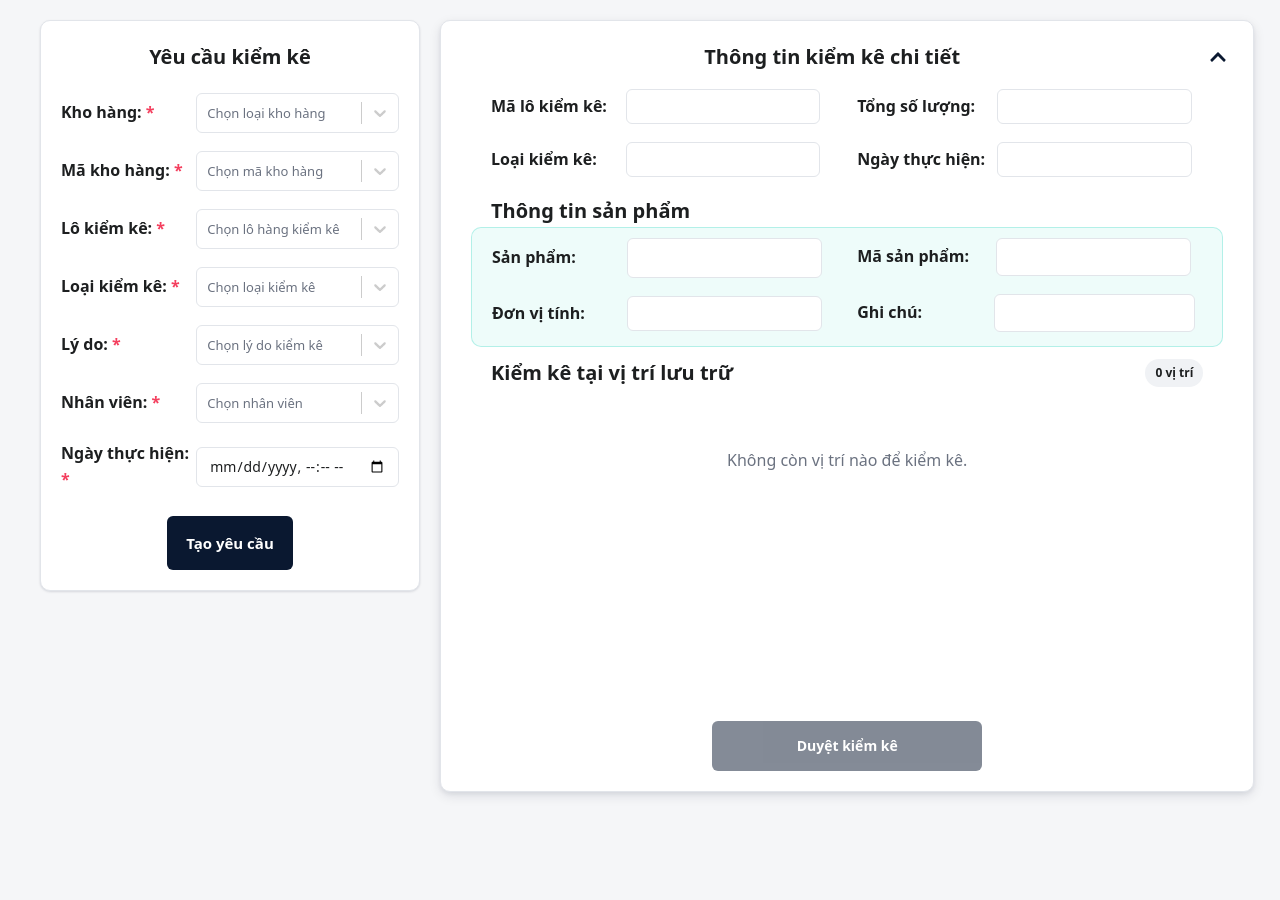
LotAdjustmentRequest › chọn lô kiểm kê -> nạp đúng thông tin sản phẩm và danh sách vị trí
Expected: the button "Tạo yêu cầu" is shown, x1=167 y1=516 x2=293 y2=570
What coordinates should you click on to do the following:
click the text "Chọn loại kho hàng"
I would click on:
 (266, 113)
Its box is x1=207 y1=104 x2=326 y2=122.
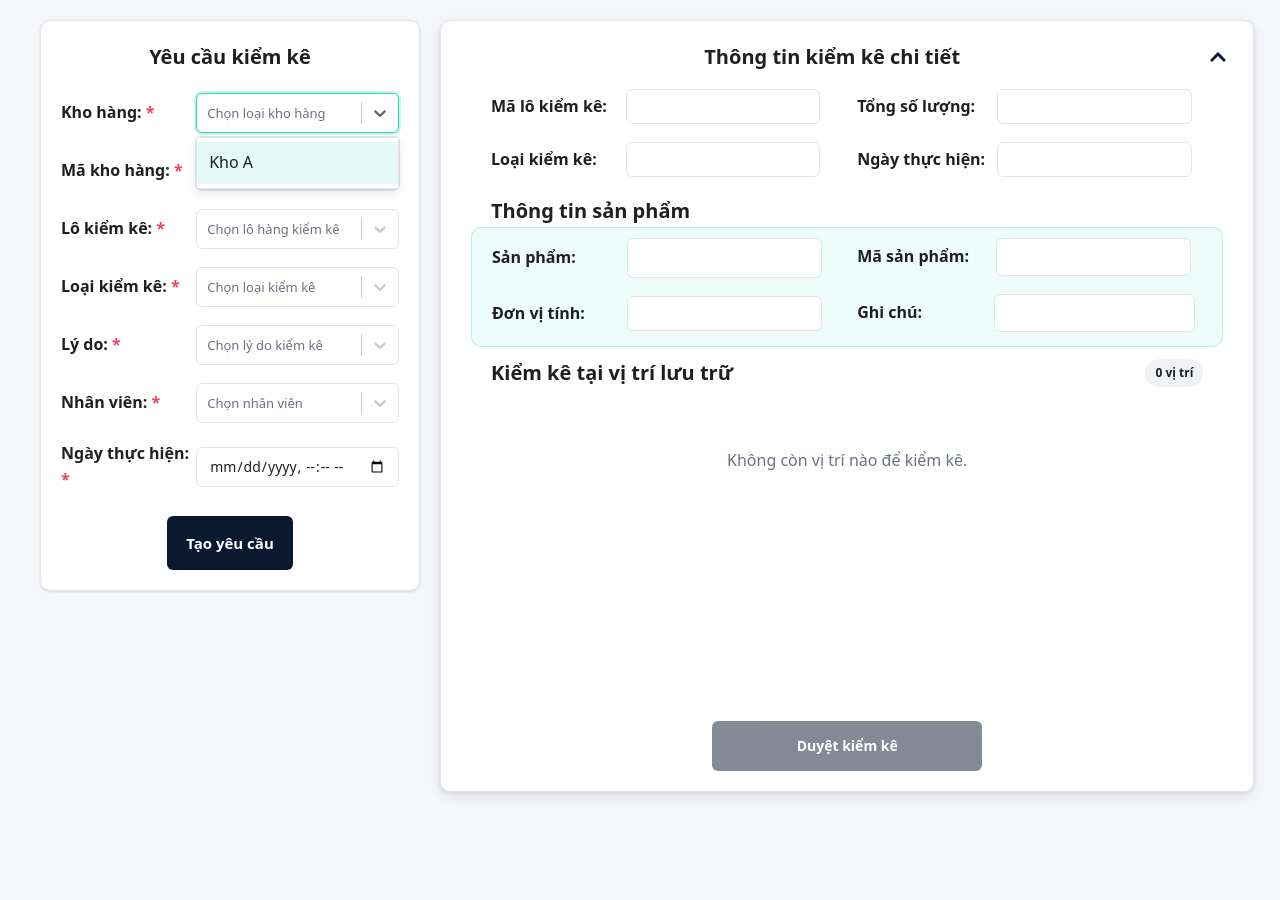
What coordinates should you click on to do the following:
click the option "Kho A"
I would click on:
 (298, 163)
Its box is x1=197 y1=142 x2=398 y2=184.
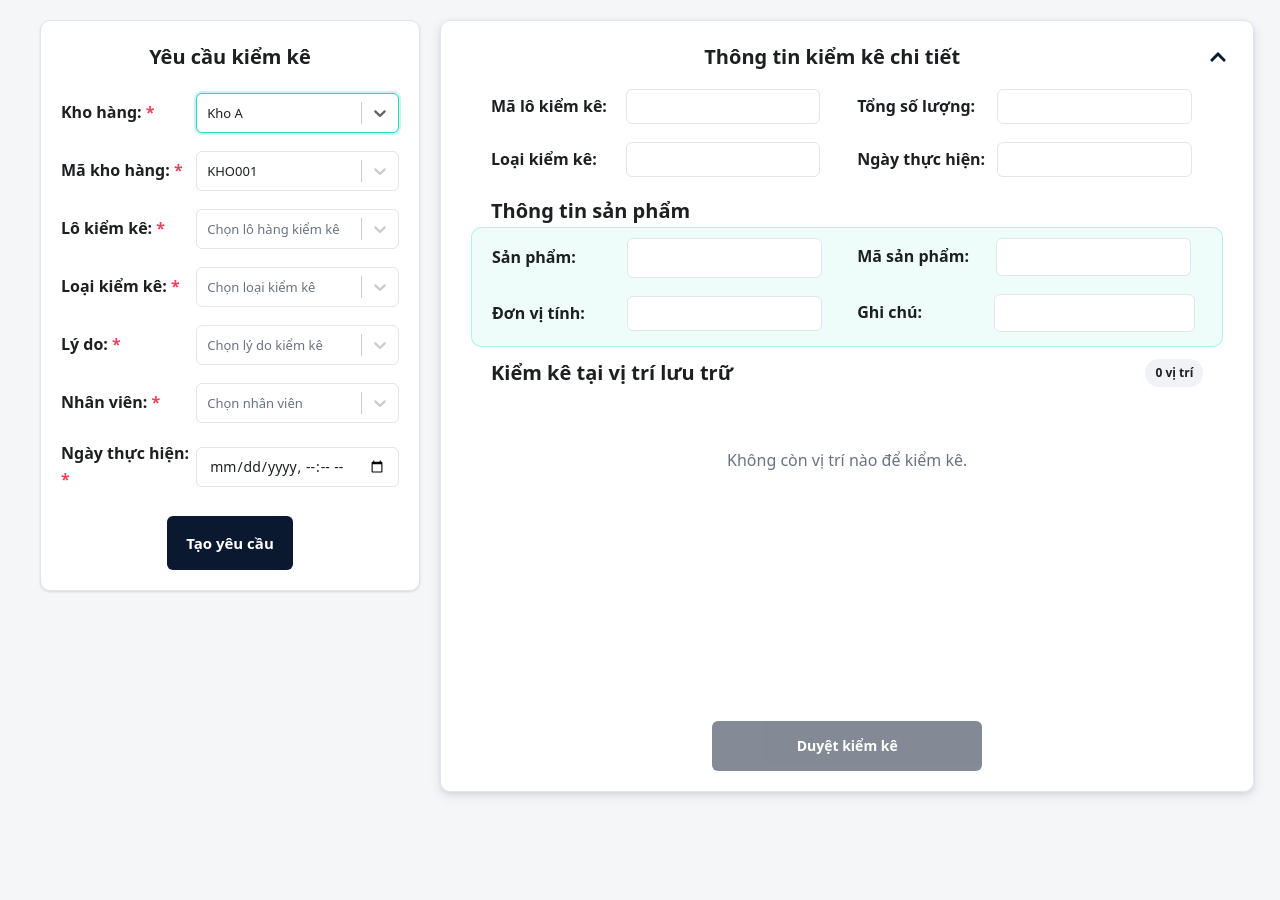
What coordinates should you click on to do the following:
click the text "Chọn lô hàng kiểm kê"
I would click on:
 (279, 229)
Its box is x1=207 y1=219 x2=351 y2=239.
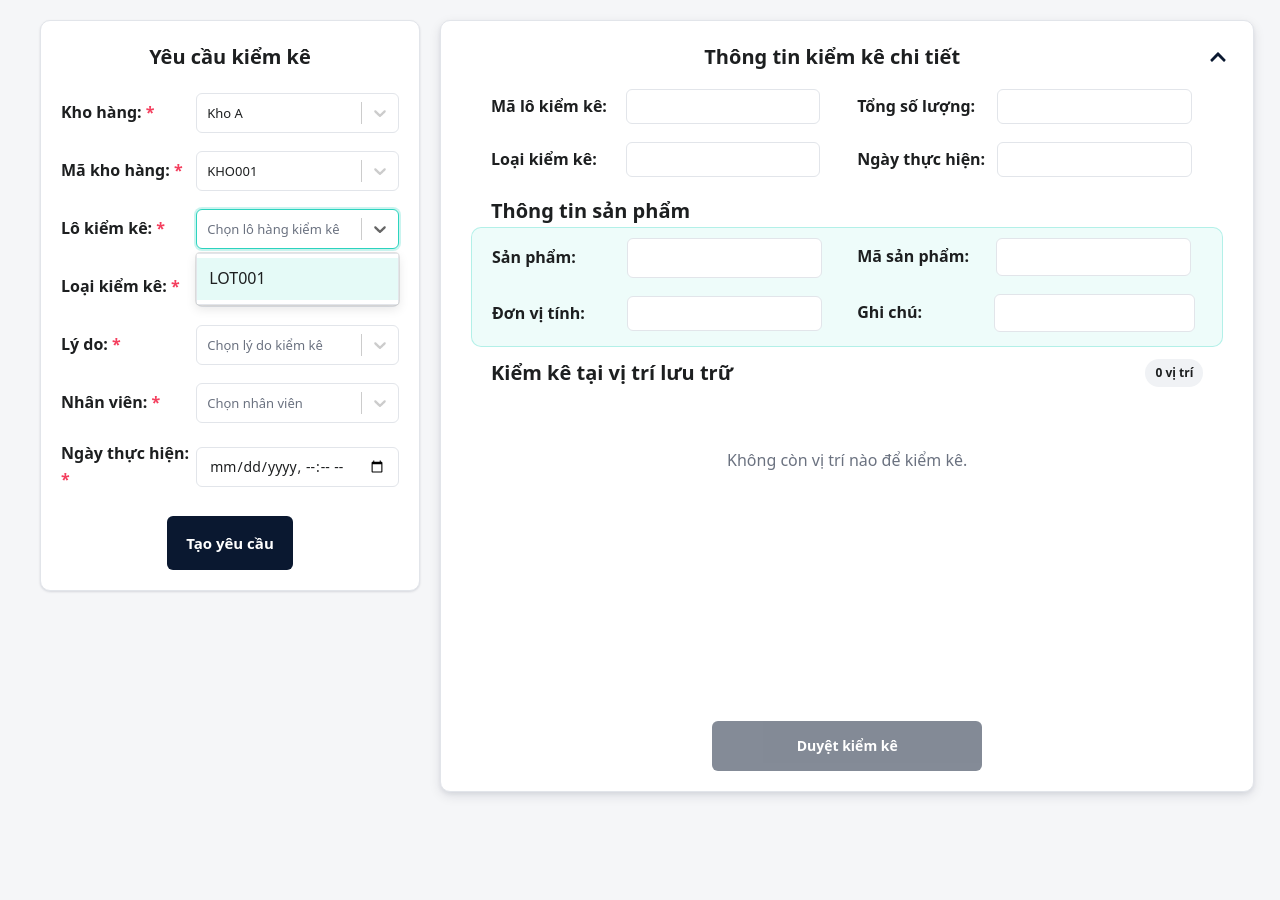
What coordinates should you click on to do the following:
click the option "LOT001"
I would click on:
 (298, 279)
Its box is x1=197 y1=258 x2=398 y2=300.
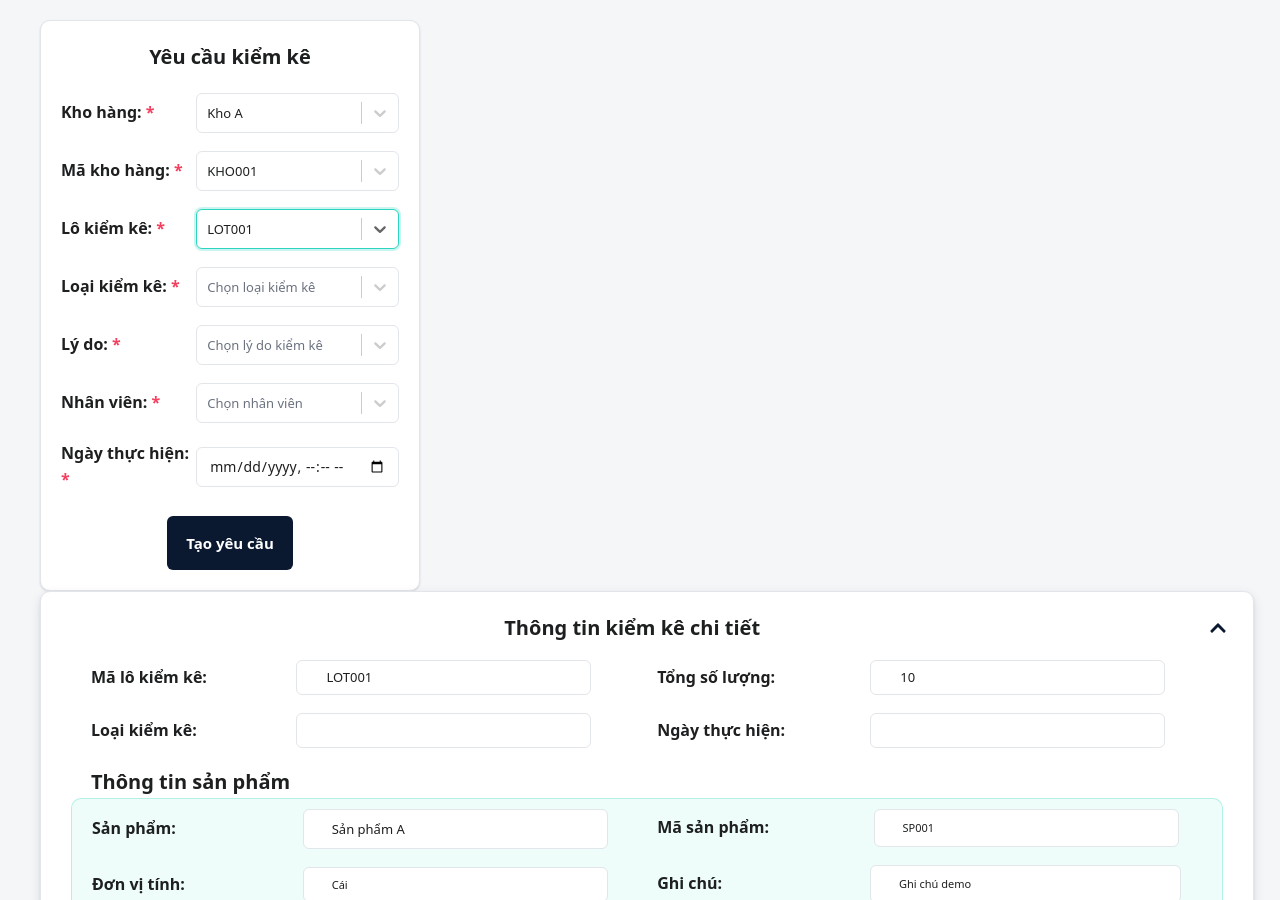
Expected: the text "Sản phẩm A" is shown, x1=303 y1=809 x2=608 y2=849
Expected: the text "10" is shown, x1=870 y1=660 x2=1165 y2=695
